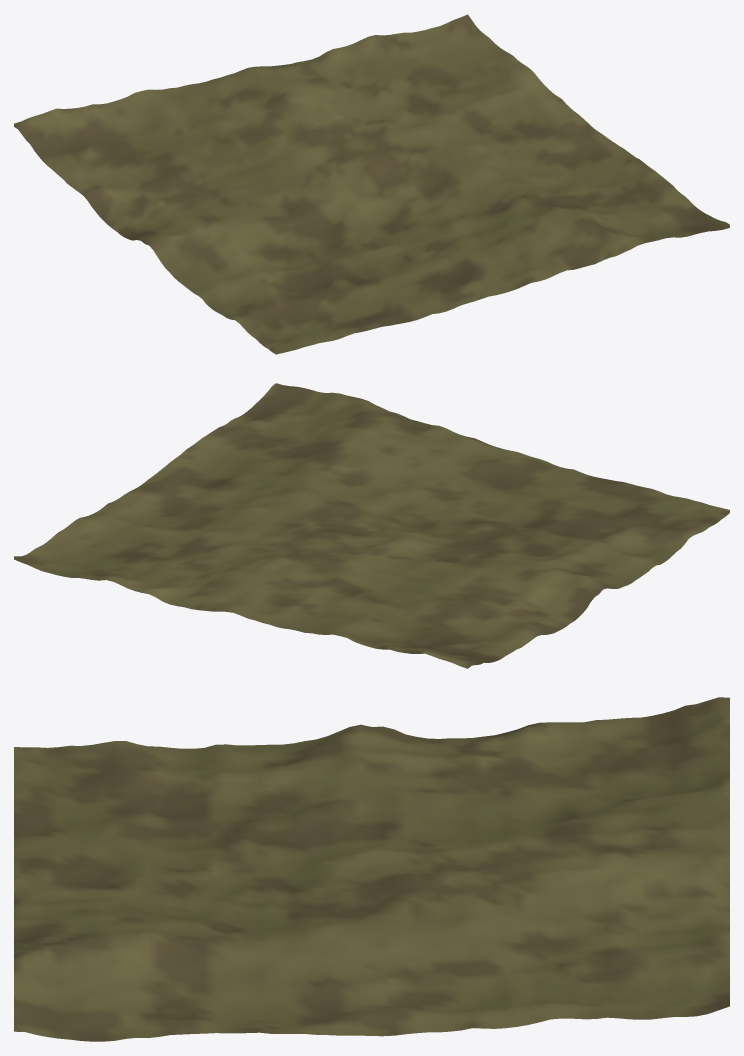
File: land_f_01_02.glb
3 renders of one model, top to bottom at view 1: azimuth 30°, elevation 25°; view 2: azimuth 150°, elevation 25°; view 3: azimuth 270°, elevation 25°, orthographic. The views are drawn at different scales.
Parts seen in each view (by area): view 1: land_f_01_02; view 2: land_f_01_02; view 3: land_f_01_02.
Boxes of the visible parts, x1,y1,x2,y2 form: land_f_01_02: (14, 14, 729, 354); land_f_01_02: (14, 383, 729, 668); land_f_01_02: (14, 697, 729, 1041).
Size of the model in its own units: 3840 by 366 by 3840.
